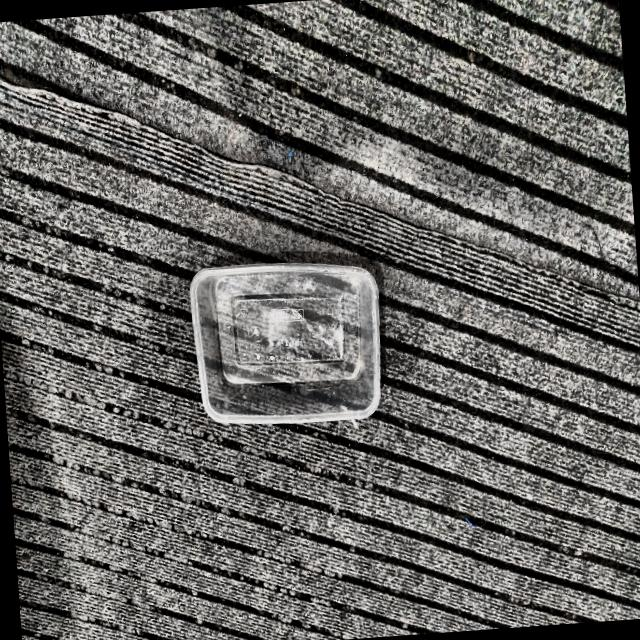plastic container: (190, 262, 380, 423)
